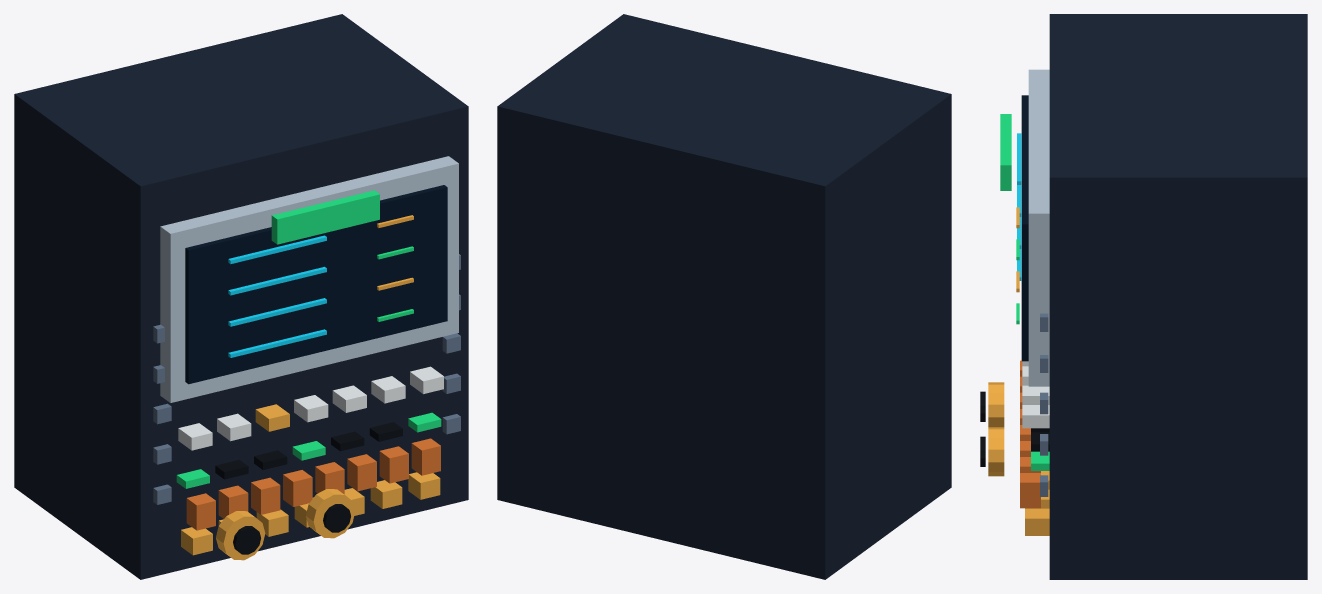
Rendered from 84_L90_AutonomousDepartureSequencingPLC.fbx.
3 views of the same model, side by side, from view 1: azimuth 30°, elevation 25°; view 2: azimuth 150°, elevation 25°; view 3: azimuth 270°, elevation 25° (orthographic). The views are drawn at different scales.
Parts seen in each view (by area): view 1: L90_AutonomousDepartureSequencingPLC, L90_AutonomousDepartureSequencingPLC_Part_0010, L90_AutonomousDepartureSequencingPLC_Part_0013, L90_AutonomousDepartureSequencingPLC_Part_0011, L90_AutonomousDepartureSequencingPLC_Part_0012, L90_AutonomousDepartureSequencingPLC_Part_0014; view 2: L90_AutonomousDepartureSequencingPLC; view 3: L90_AutonomousDepartureSequencingPLC, L90_AutonomousDepartureSequencingPLC_Part_0010, L90_AutonomousDepartureSequencingPLC_Part_0013, L90_AutonomousDepartureSequencingPLC_Part_0011.
Part boxes in pixels (box(x1,y1,x2,y2)): L90_AutonomousDepartureSequencingPLC: box(14, 14, 468, 579); L90_AutonomousDepartureSequencingPLC_Part_0010: box(271, 190, 379, 244); L90_AutonomousDepartureSequencingPLC_Part_0013: box(306, 489, 355, 538); L90_AutonomousDepartureSequencingPLC_Part_0011: box(216, 511, 265, 560); L90_AutonomousDepartureSequencingPLC_Part_0012: box(233, 526, 260, 554); L90_AutonomousDepartureSequencingPLC_Part_0014: box(323, 504, 350, 532); L90_AutonomousDepartureSequencingPLC: box(497, 14, 951, 579); L90_AutonomousDepartureSequencingPLC: box(1016, 14, 1307, 579); L90_AutonomousDepartureSequencingPLC_Part_0010: box(1000, 114, 1011, 190); L90_AutonomousDepartureSequencingPLC_Part_0013: box(988, 427, 1004, 476); L90_AutonomousDepartureSequencingPLC_Part_0011: box(988, 382, 1004, 427).
Bounding box in the file's own units: 102 × 117 × 86.2.
